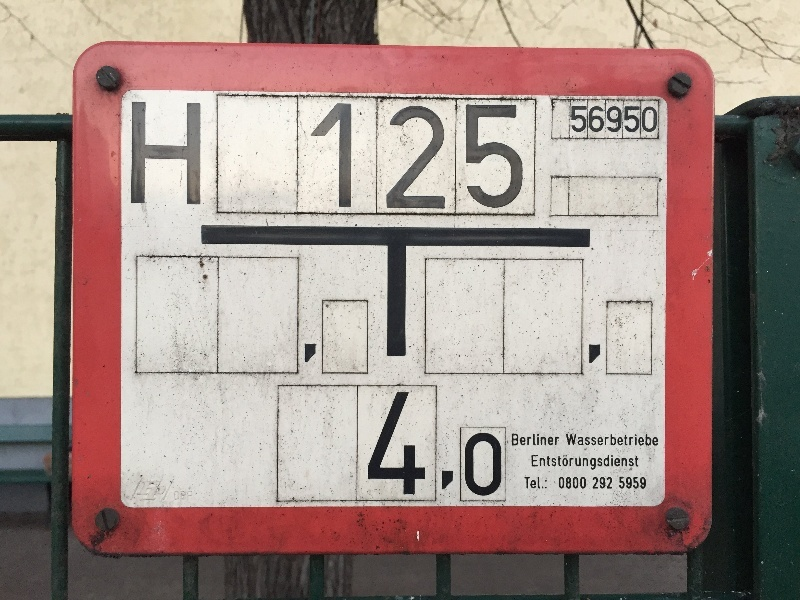text: (401, 392, 416, 505), (417, 392, 432, 505), (433, 392, 448, 505), (449, 392, 464, 505), (465, 392, 480, 505), (481, 392, 496, 505), (321, 103, 336, 209), (337, 103, 352, 209), (353, 103, 368, 209), (369, 103, 384, 209), (385, 103, 400, 209), (401, 103, 416, 209), (417, 103, 432, 209), (433, 103, 448, 209), (449, 103, 464, 209), (465, 103, 480, 209), (481, 103, 496, 209), (497, 103, 512, 209), (145, 102, 160, 208), (161, 102, 176, 208), (177, 102, 192, 208), (513, 103, 524, 209), (133, 102, 144, 208), (193, 102, 202, 208), (312, 103, 320, 209), (497, 392, 503, 505), (577, 105, 592, 134), (593, 105, 608, 134), (609, 105, 624, 134), (625, 105, 640, 134), (641, 105, 656, 134), (545, 455, 560, 472), (561, 455, 576, 472), (577, 455, 592, 472), (593, 455, 608, 472), (609, 455, 624, 472), (625, 455, 639, 472), (398, 392, 400, 505), (513, 433, 528, 447), (529, 433, 544, 447), (545, 433, 560, 447), (577, 433, 592, 447), (593, 433, 608, 447), (609, 433, 624, 447), (625, 433, 640, 447), (641, 433, 656, 447), (529, 476, 544, 490), (625, 476, 640, 490), (532, 455, 544, 472), (561, 477, 576, 490), (593, 476, 608, 489), (571, 105, 576, 134), (566, 433, 576, 447), (577, 477, 586, 490), (619, 476, 624, 490), (641, 476, 646, 490), (609, 476, 613, 489), (525, 476, 528, 490), (545, 476, 548, 490), (657, 105, 658, 134), (657, 433, 659, 447), (559, 477, 560, 490)
